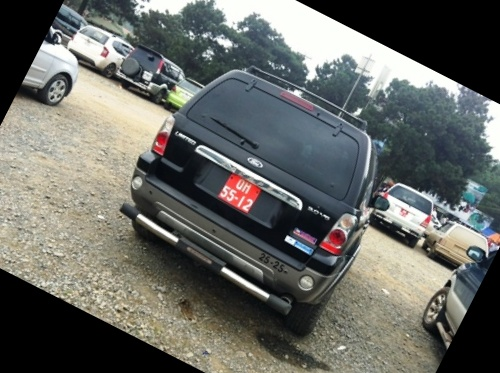plate: (216, 168, 263, 212)
